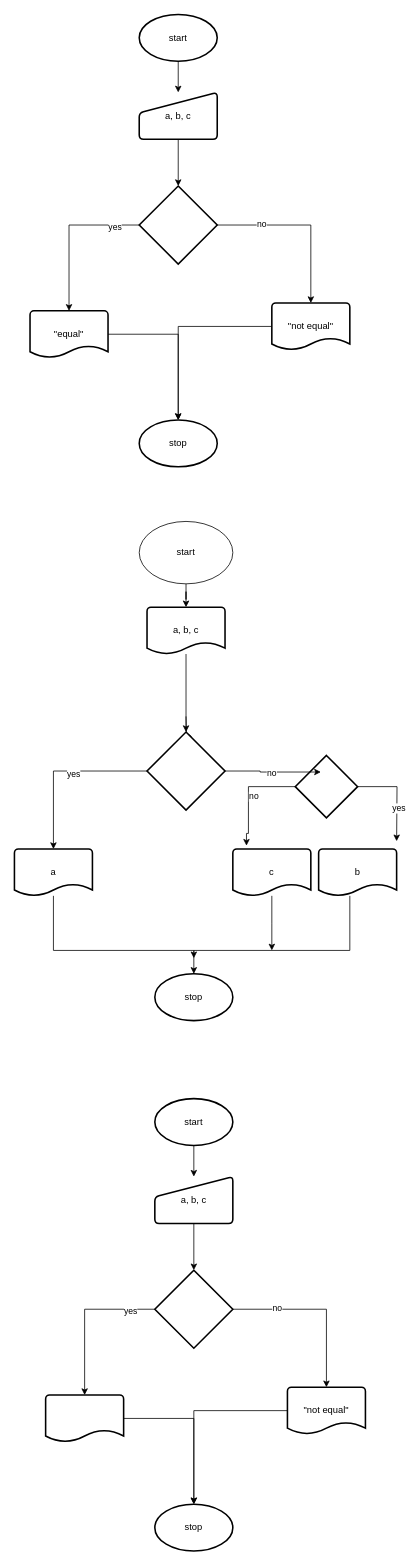
Image size: 419x1565. Some labels were removed from this diagram. Here are the shapes that lost their labels. From the top down, the centre of each, then its label:
[178,224]: a == b and b ==c
[185,770]: a < b and a < c
[326,786]: b < c
[193,1309]: a == b or b == c or c == a
[84,1418]: "boom"
